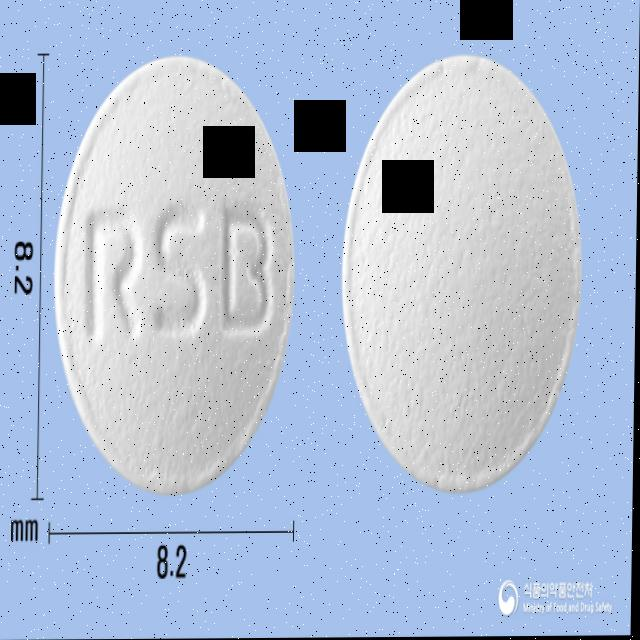Clamon Tab: (340, 50, 587, 497), (52, 52, 299, 494)
